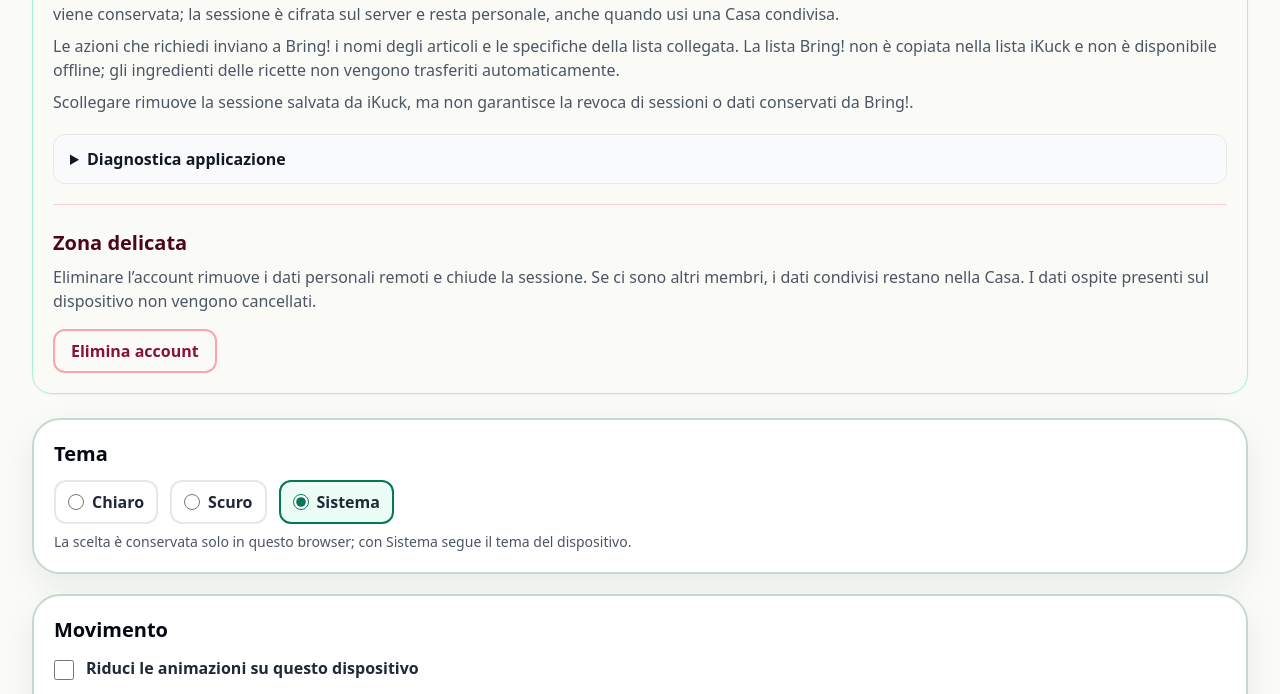
it: ProfilePage › requires a second confirmation before account deletion
(page scrolled)
Click the button "Elimina account": {"x": 135, "y": 351} [53,329,217,373]
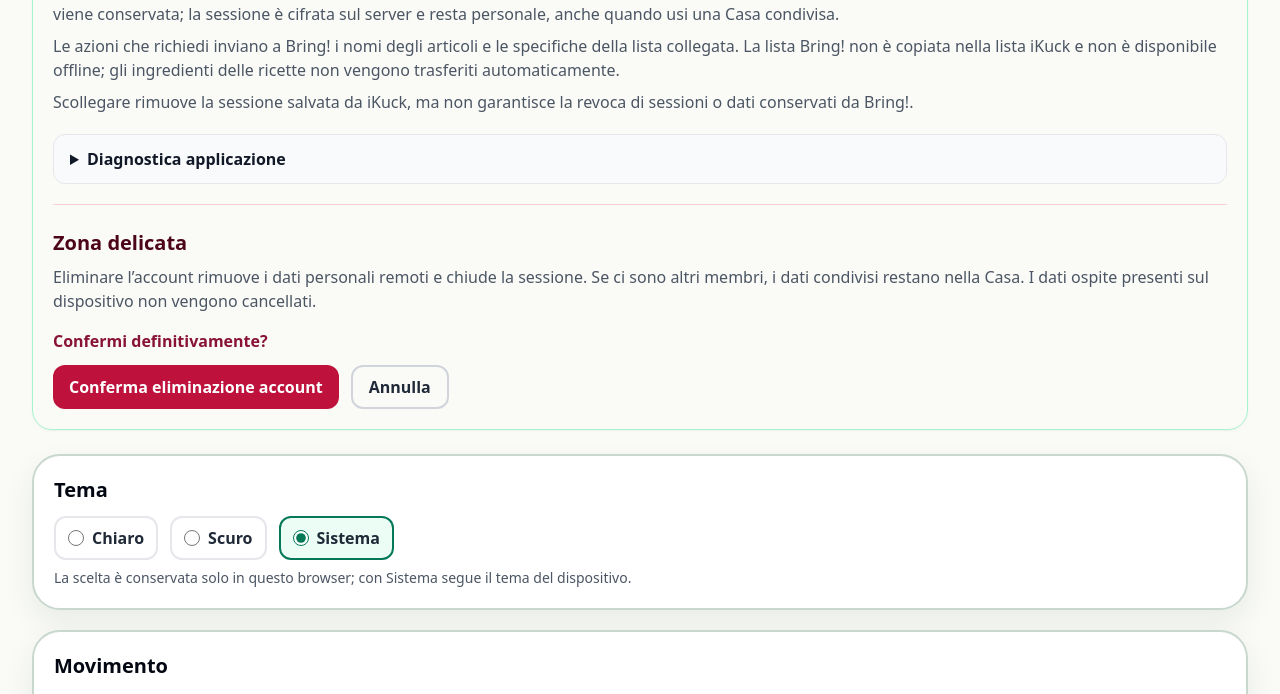
Expected: the button "Conferma eliminazione account" is shown, [53,365,339,409]
